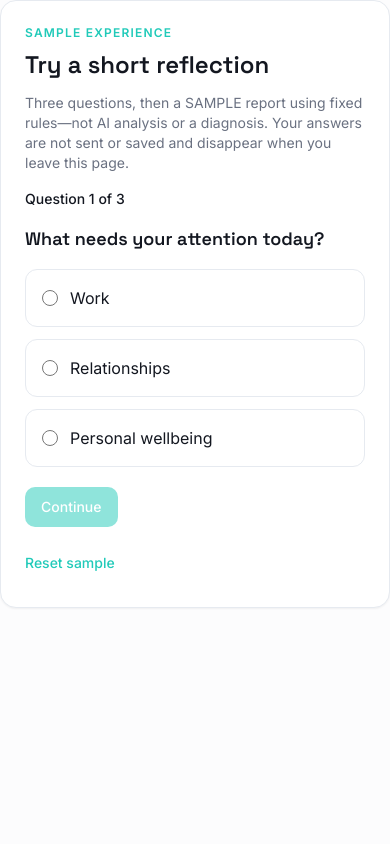
InteractiveSample › gates each of three questions and announces progress with focus
This screenshot has width=390, height=844.
expect the message reads "Question 1 of 3": met, box [25,190,125,207]
expect the button "Continue" is disabled: met, box [25,487,118,527]
Step 1. Click the radio button labelled "Work" → (50, 298), box [42,290,58,306]
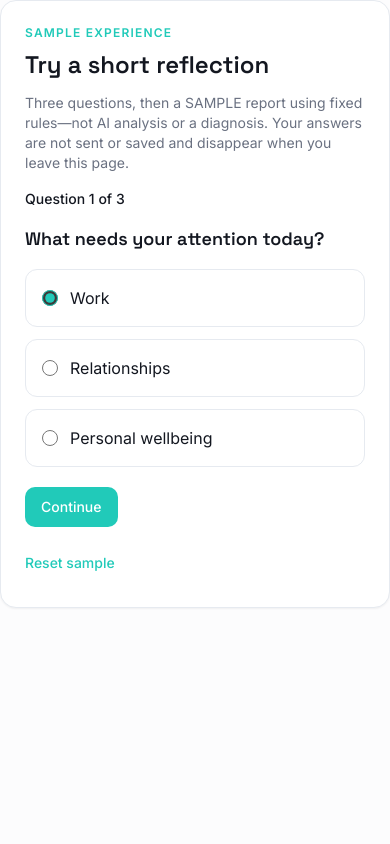
Step 2. Click the button "Continue" → (71, 507), box [25,487,118,527]
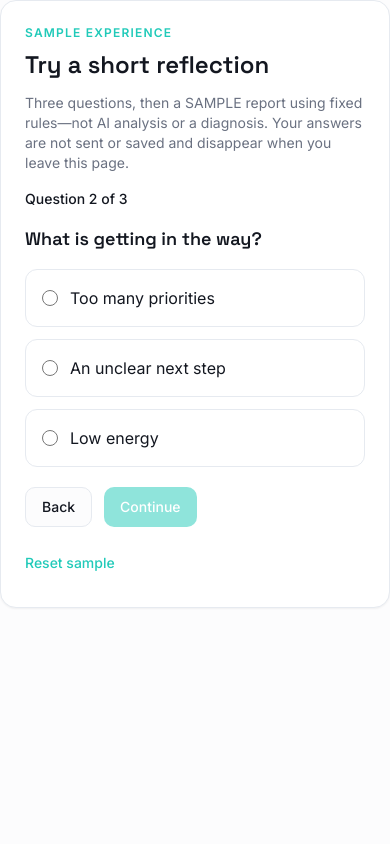
expect the message reads "Question 2 of 3": met, box [25,190,128,207]
expect the button "Continue" is disabled: met, box [104,487,197,527]
Step 3. Click the radio button labelled "Low energy" → (50, 438), box [42,430,58,446]
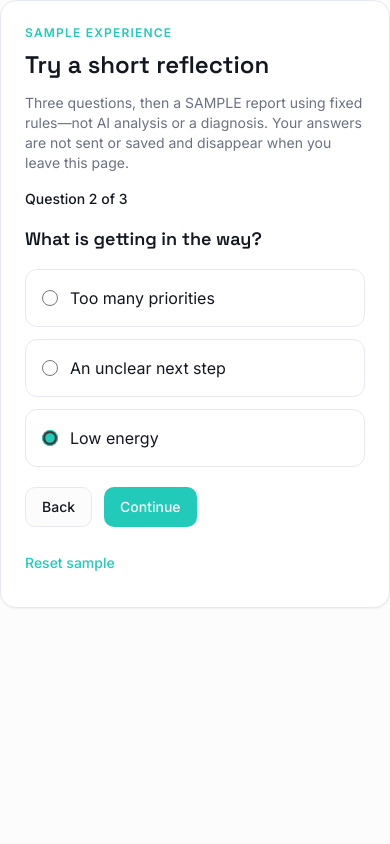
Step 4. Click the button "Continue" → (150, 507), box [104,487,197,527]
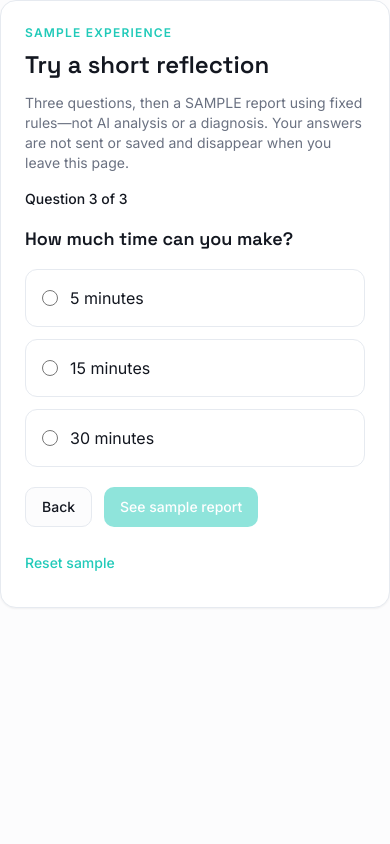
expect the message reads "Question 3 of 3": met, box [25,190,128,207]
expect the button "See sample report" is disabled: met, box [104,487,258,527]
